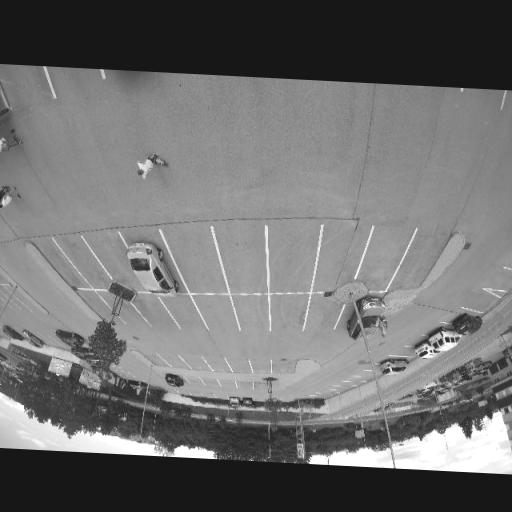busy: (124, 240, 178, 298), (343, 293, 388, 345), (449, 310, 482, 336), (6, 328, 44, 350), (428, 328, 460, 352), (56, 328, 86, 349), (379, 357, 408, 377), (413, 341, 438, 361), (72, 345, 98, 363), (165, 372, 185, 388), (230, 396, 242, 408), (242, 397, 252, 407)
free: (271, 238, 313, 284), (226, 238, 265, 286), (178, 245, 220, 285), (322, 236, 356, 274), (4, 65, 41, 92), (368, 244, 397, 274), (273, 302, 305, 323), (406, 252, 434, 276), (236, 303, 268, 323), (106, 248, 130, 274), (308, 304, 338, 324), (204, 304, 233, 324), (52, 252, 74, 276), (90, 301, 110, 321), (78, 257, 100, 275), (171, 305, 197, 319), (116, 303, 135, 321), (142, 306, 165, 320), (496, 272, 512, 292), (470, 293, 490, 309), (275, 361, 293, 374), (357, 368, 373, 382), (398, 347, 416, 359), (251, 360, 269, 371), (189, 358, 206, 368), (233, 361, 249, 370), (190, 388, 204, 398), (211, 360, 226, 369), (170, 357, 184, 366), (220, 378, 234, 386), (238, 380, 252, 388), (345, 377, 356, 387), (202, 392, 214, 401), (215, 394, 228, 402), (204, 378, 218, 385), (152, 355, 164, 363), (188, 377, 201, 384), (335, 384, 342, 390)
